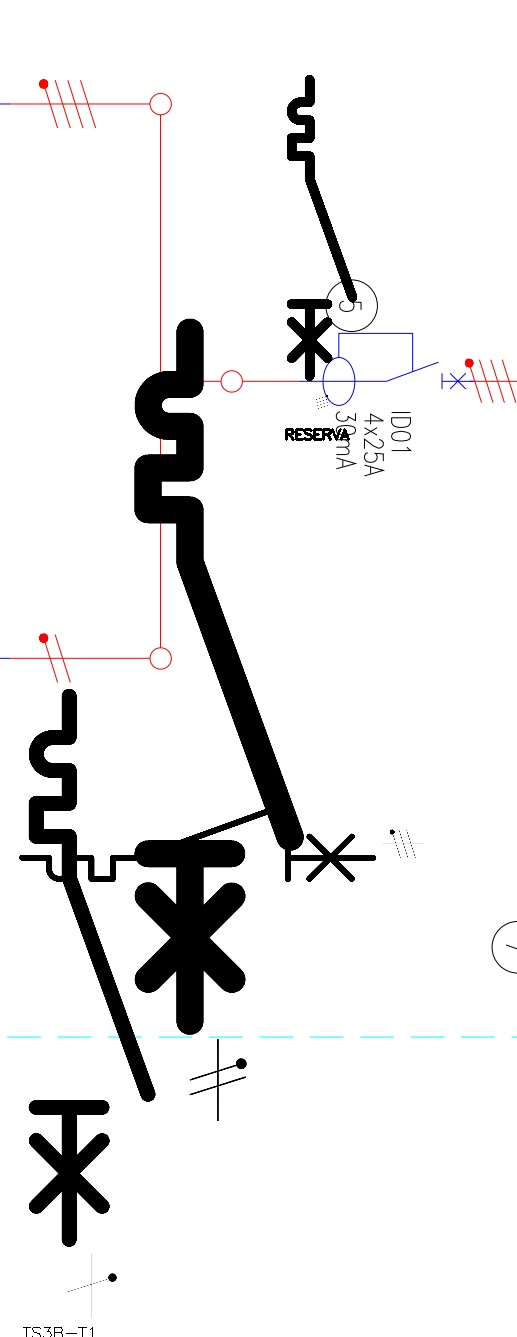interruptor_termomagnetico: (130, 314, 307, 1039), (22, 682, 162, 1253), (13, 798, 382, 888), (284, 72, 360, 384)
